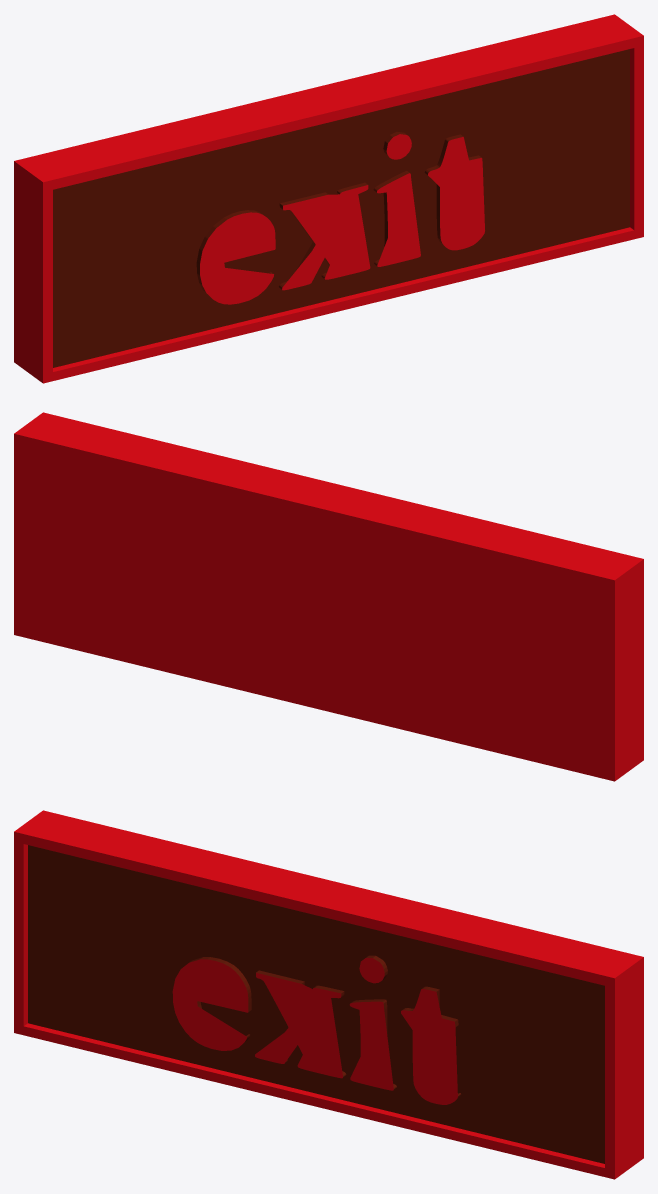
File: ExitButton.fbx
3 views of the same model, one above another, from view 1: azimuth 30°, elevation 25°; view 2: azimuth 150°, elevation 25°; view 3: azimuth 330°, elevation 25° (orthographic).
Parts seen in each view (by area): view 1: 立方体; view 2: 立方体; view 3: 立方体.
Part boxes in pixels (x1,y1,x2,y2): 立方体: (14, 14, 643, 383); 立方体: (14, 412, 643, 781); 立方体: (14, 810, 643, 1179).
Bounding box in the file's own units: 580 × 186 × 48.72.
